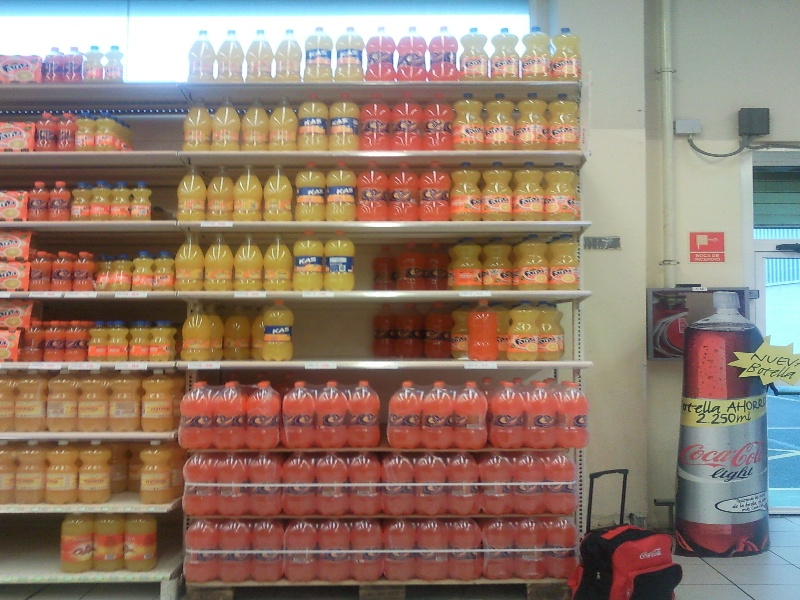lemonade: (134, 437, 179, 506), (420, 378, 459, 452), (454, 380, 493, 453), (256, 298, 298, 363), (489, 379, 527, 450), (349, 379, 387, 450), (245, 379, 282, 451), (312, 380, 348, 452), (546, 227, 587, 290), (258, 159, 298, 222), (140, 369, 178, 435), (327, 89, 362, 159), (259, 229, 296, 294), (180, 379, 213, 451), (281, 379, 313, 451), (420, 159, 455, 224), (388, 379, 420, 449), (449, 159, 485, 221), (513, 230, 550, 290), (325, 228, 358, 295), (527, 382, 559, 450), (559, 381, 591, 449), (292, 161, 327, 223), (214, 378, 245, 448), (483, 159, 516, 224), (545, 161, 580, 222), (510, 301, 544, 363), (181, 301, 216, 361), (359, 89, 391, 153), (469, 299, 502, 361), (327, 159, 359, 222), (388, 158, 420, 221), (552, 27, 590, 80), (516, 90, 549, 150), (291, 229, 322, 292), (482, 234, 515, 293), (451, 93, 485, 150), (548, 93, 583, 148), (297, 92, 328, 153), (514, 159, 544, 220), (486, 93, 517, 151), (452, 235, 483, 292), (521, 26, 551, 81)
